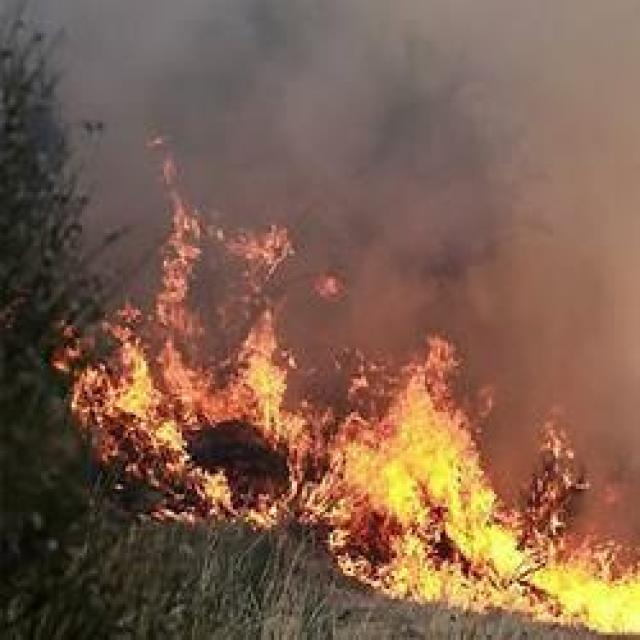fire: (101, 318, 321, 515), (353, 342, 508, 595), (529, 560, 640, 638)
smoke: (390, 0, 640, 329), (77, 5, 405, 124), (519, 315, 640, 515)
